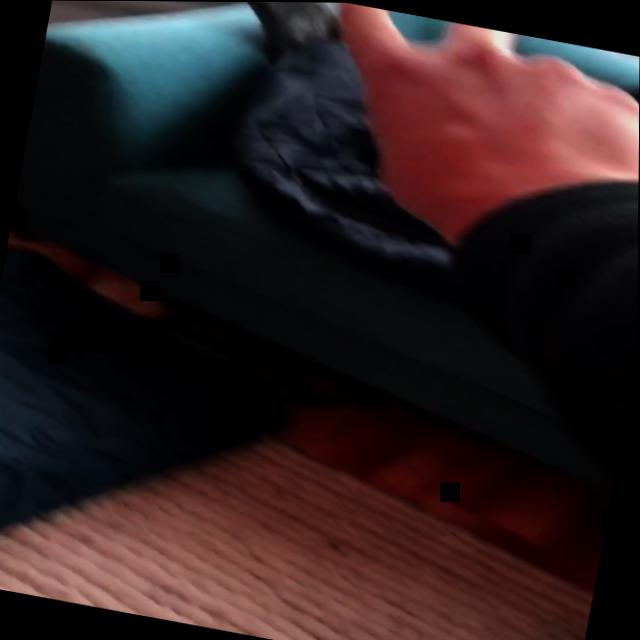Scissors: (304, 2, 640, 260)
